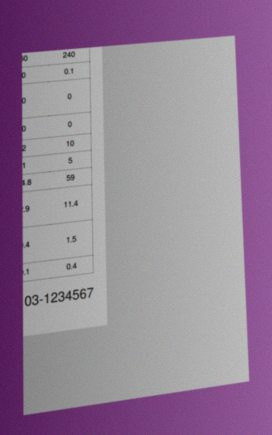carbs: (65, 173, 76, 183)
energy: (62, 50, 76, 60)
fat: (63, 67, 75, 77)
protein: (65, 261, 78, 272)
